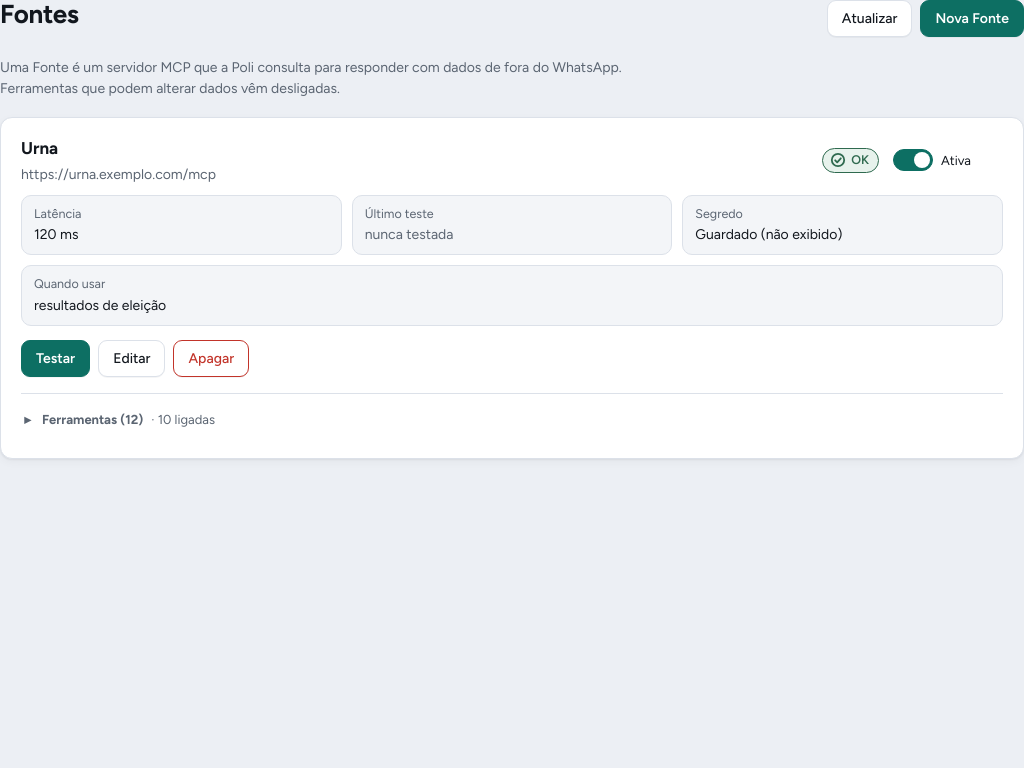
Scenario: tela de Fontes › com muitas ferramentas começa recolhido, mostra quantas existem e quantas estão ligadas, e expande ao clicar
This screenshot has width=1024, height=768.
Expected: the text "ferr_0" is not shown
Click the button "▸ Ferramentas (12) · 10 ligadas" at (120, 420), box [17,406,223,434]
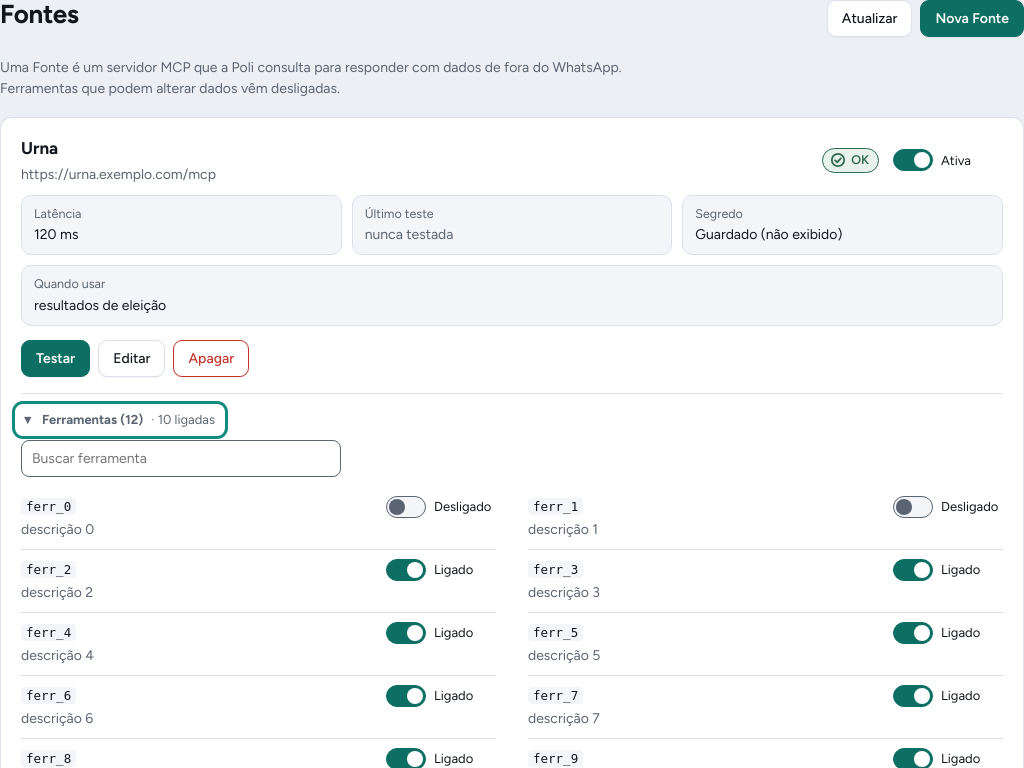
Now the button "▾ Ferramentas (12) · 10 ligadas" is expanded
Now the text "ferr_0" is shown, box [21,498,76,514]
Click the button "▾ Ferramentas (12) · 10 ligadas" at (120, 420), box [17,406,223,434]
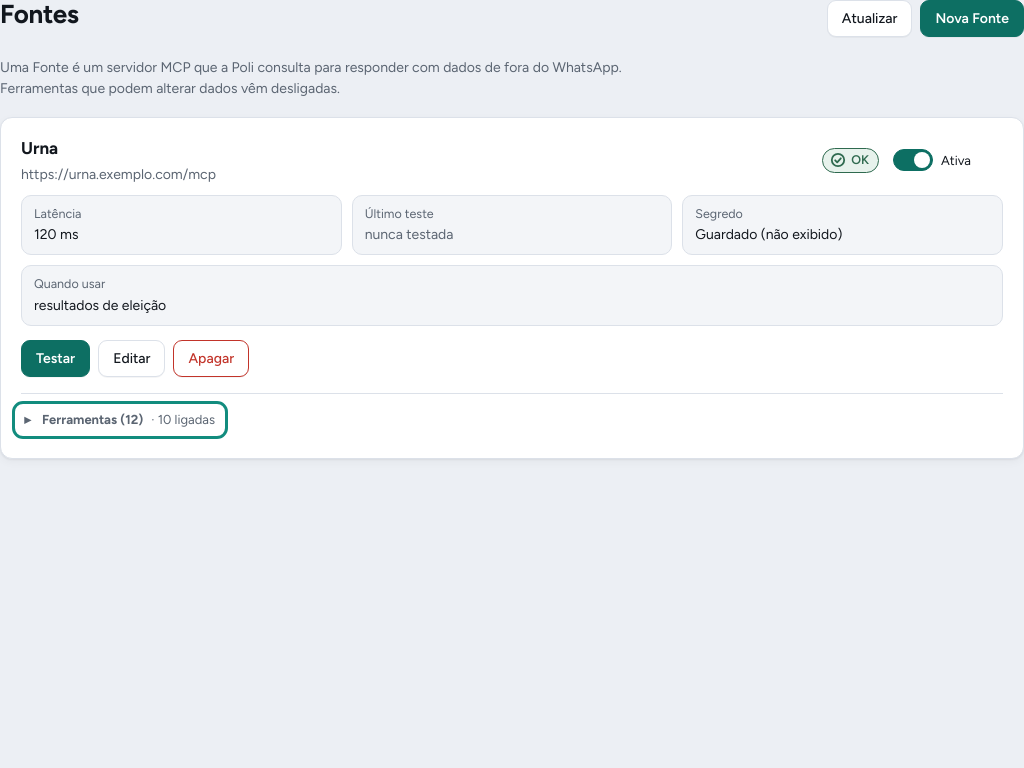
Now the text "ferr_0" is gone
